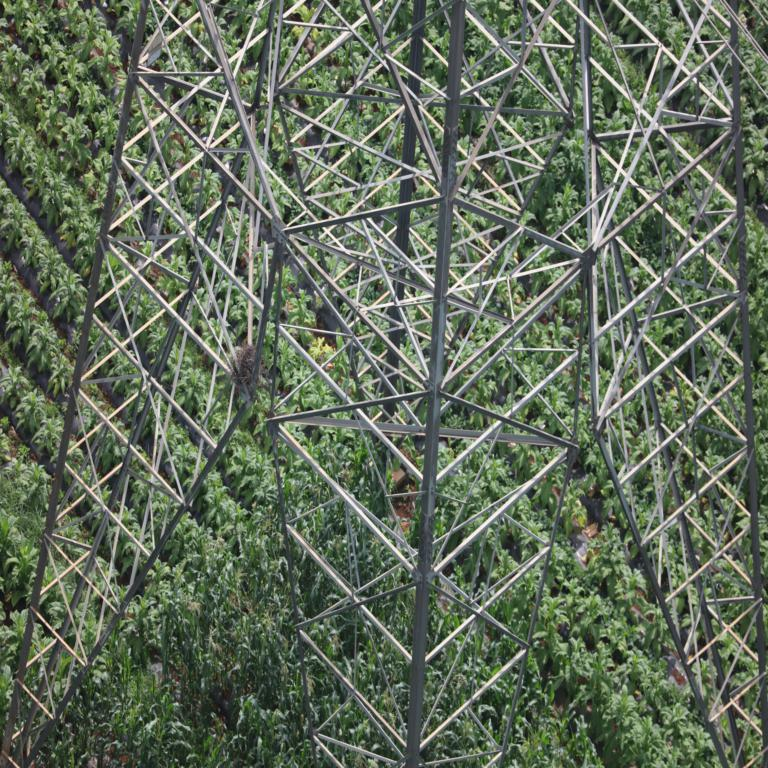nest: (219, 342, 262, 397)
